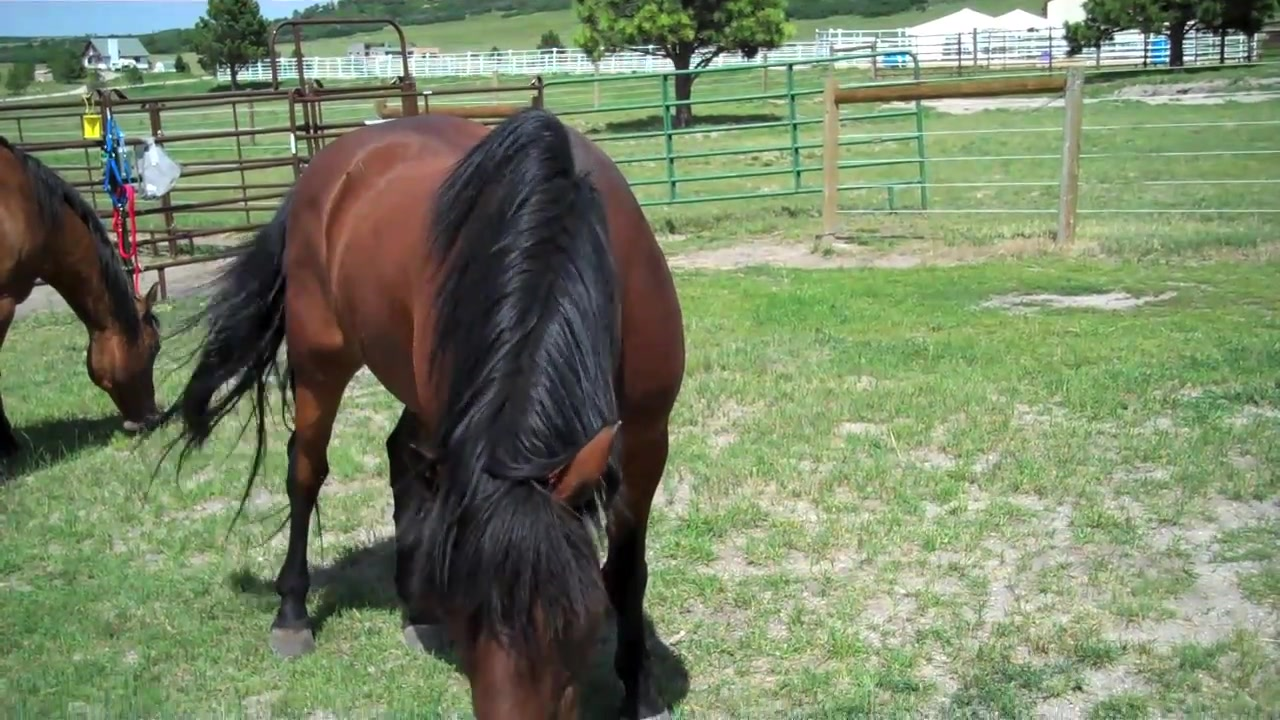horse: (163, 106, 688, 720), (1, 129, 166, 469)
